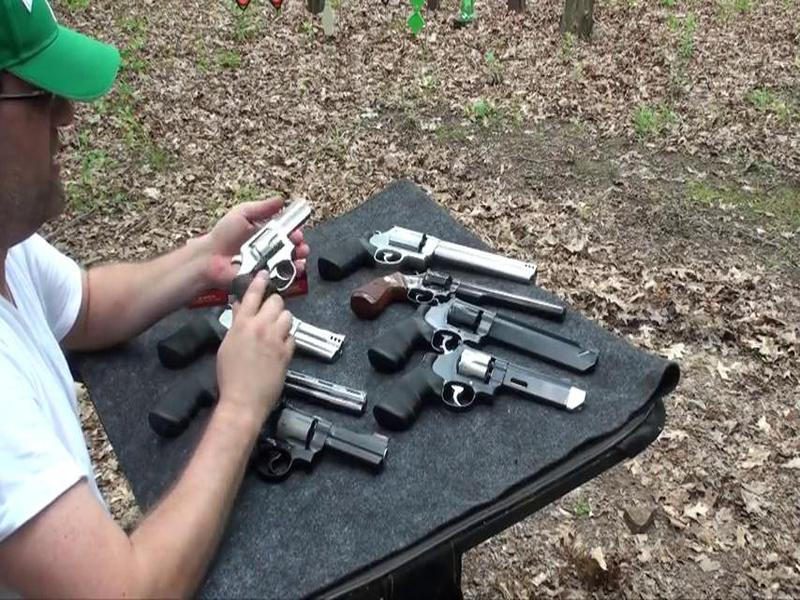Revolver: (212, 178, 313, 354)
